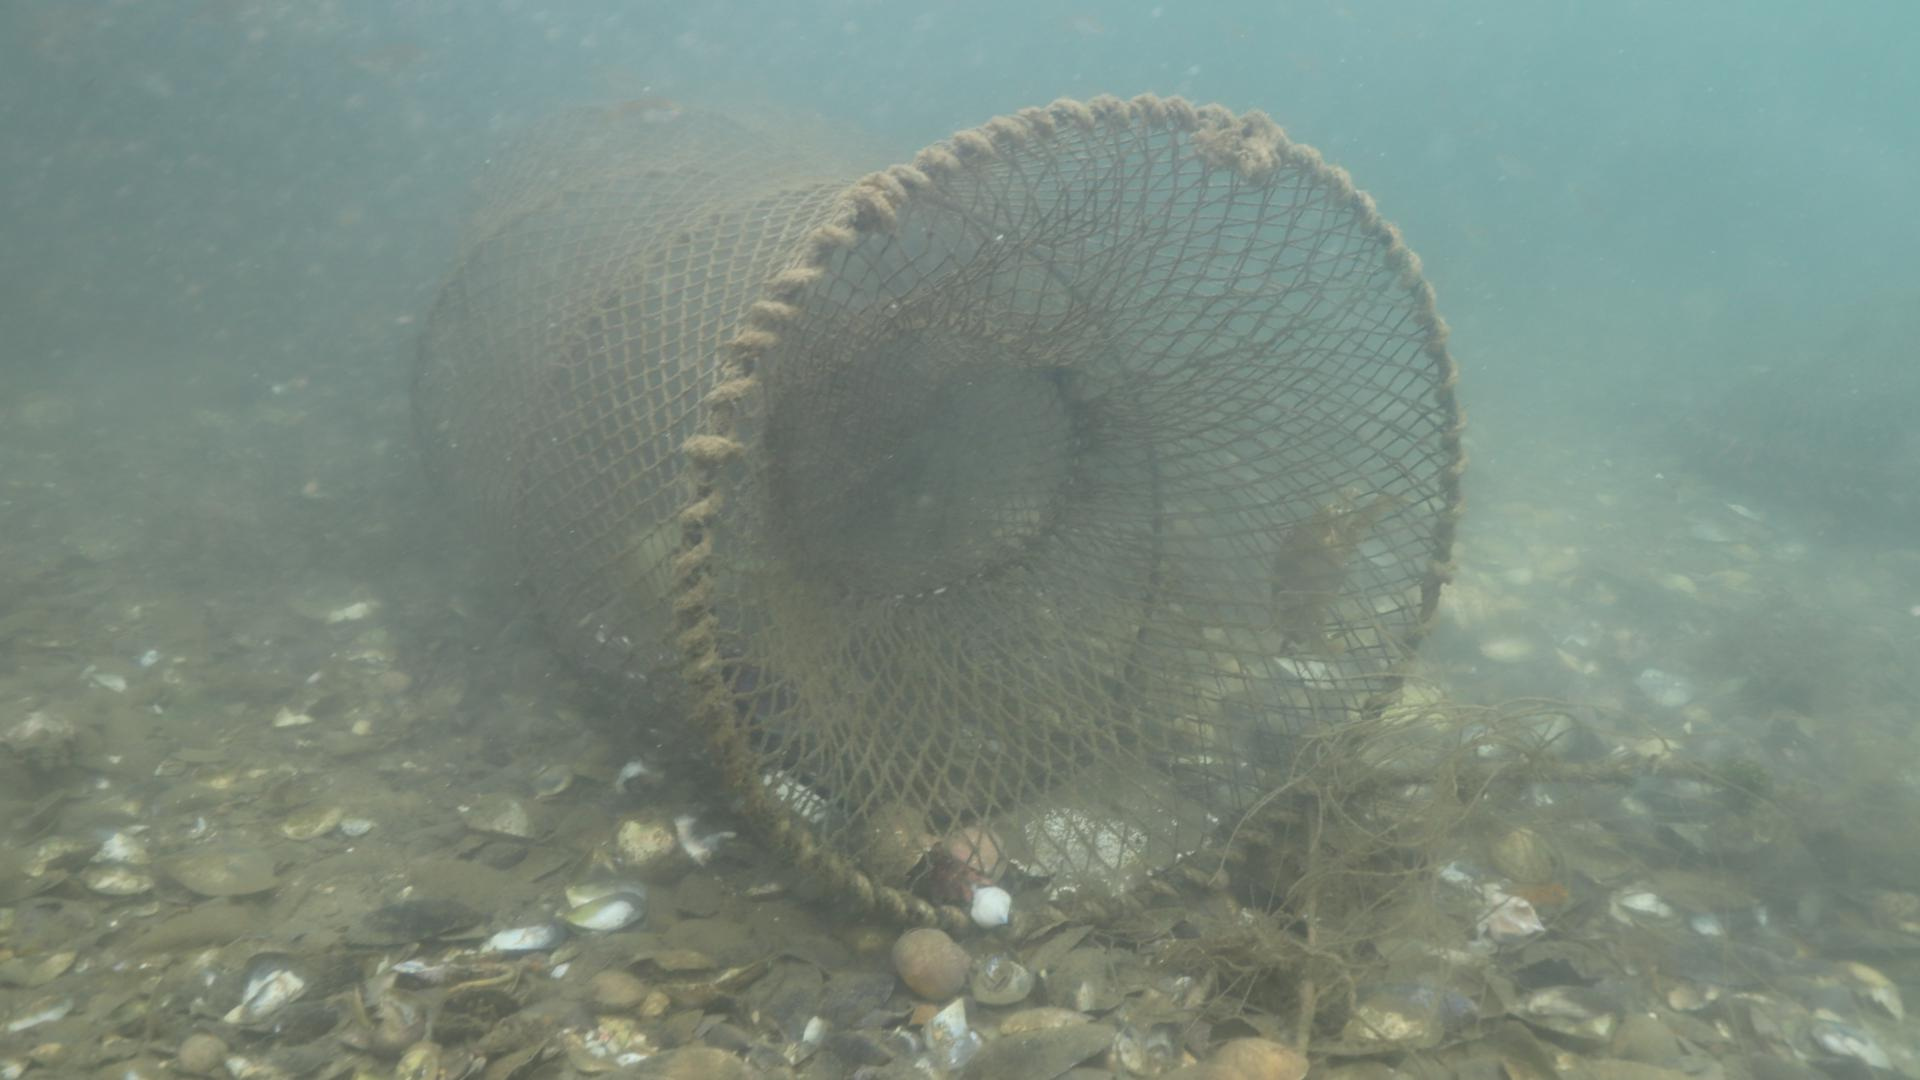spring fish trap: (409, 94, 1464, 935)
